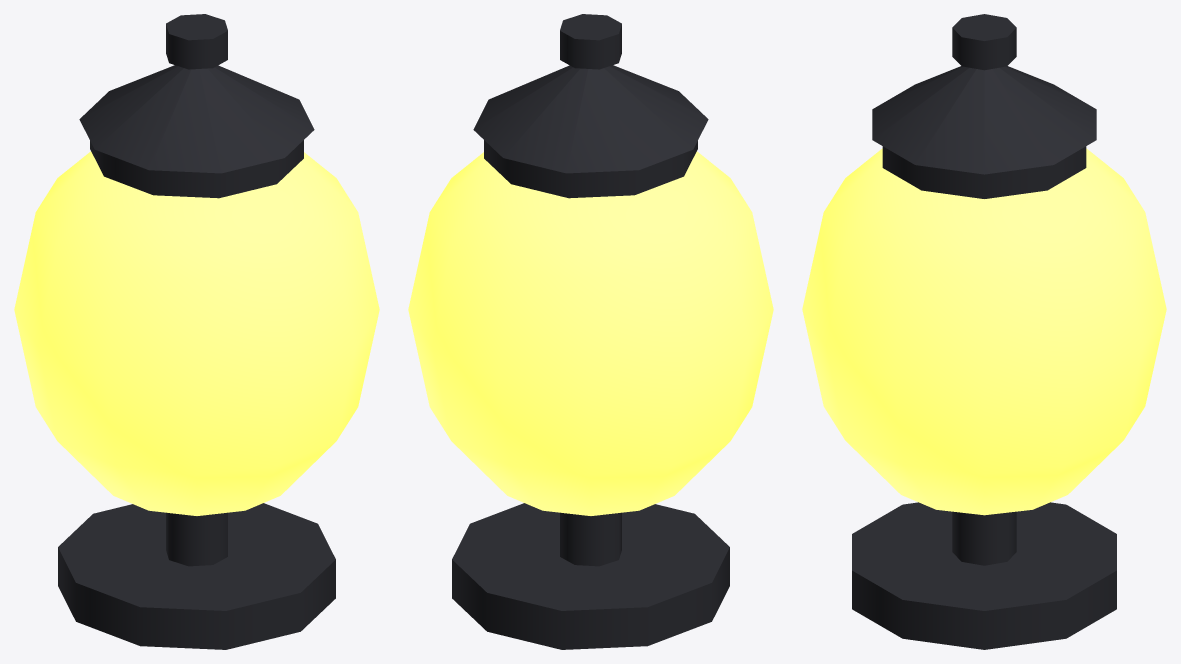
The model's file is lantern-gold.glb.
3 renders of one model, left to right at view 1: azimuth 30°, elevation 25°; view 2: azimuth 150°, elevation 25°; view 3: azimuth 270°, elevation 25°, orthographic.
Size of the model in its own units: 0.34 by 0.58 by 0.34.
